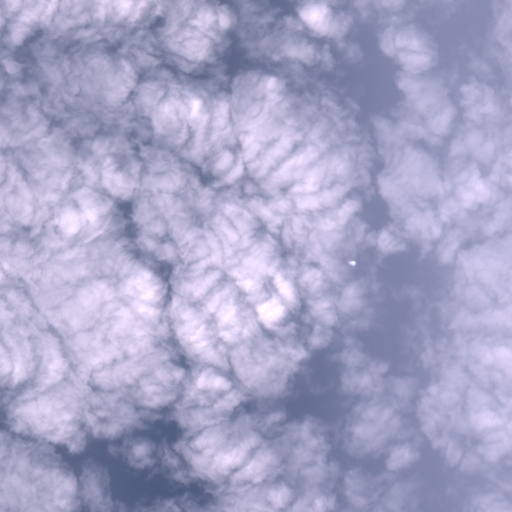Iceberg: (349, 261, 355, 264)
